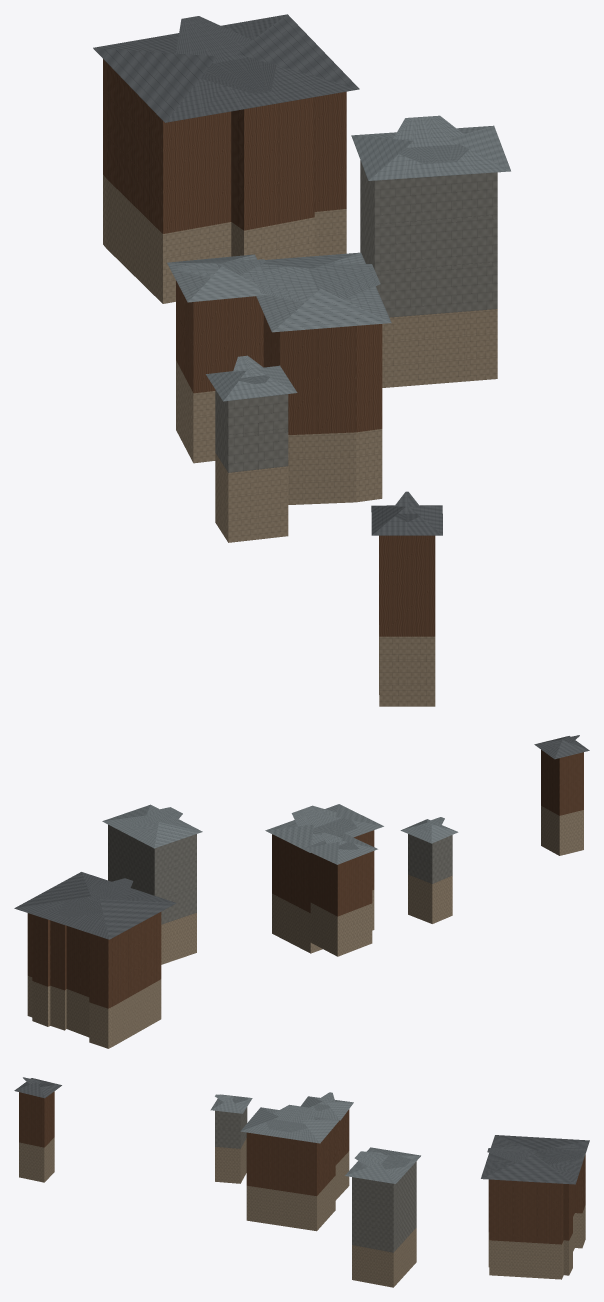
File: bld_c-13_27_479.gltf
3 views of the same model, one above another, from view 1: azimuth 30°, elevation 25°; view 2: azimuth 150°, elevation 25°; view 3: azimuth 270°, elevation 25° (orthographic). The views are drawn at different scales.
Visible parts, largest first — view 1: bld_c-13_27_479; view 2: bld_c-13_27_479; view 3: bld_c-13_27_479.
Part boxes in pixels (x1,y1,x2,y2): bld_c-13_27_479: [93, 14, 510, 706]; bld_c-13_27_479: [14, 735, 589, 1048]; bld_c-13_27_479: [14, 1077, 589, 1287].
Bounding box in the file's own units: 37.11 × 16.4 × 76.1.
Materials: 5 (5 with a texture image).
